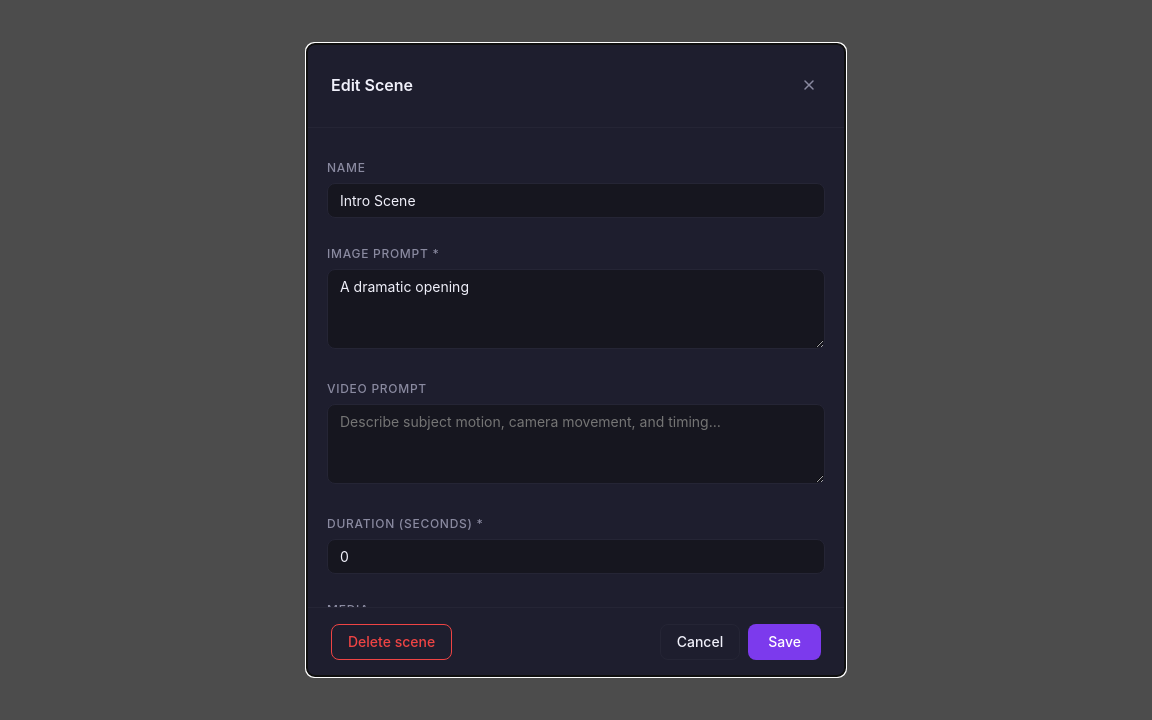
Test: SceneModal › field validation › blocks save when duration is out of range and shows error
Click the button with test id "save-button": x=785, y=642 [748, 624, 821, 660]
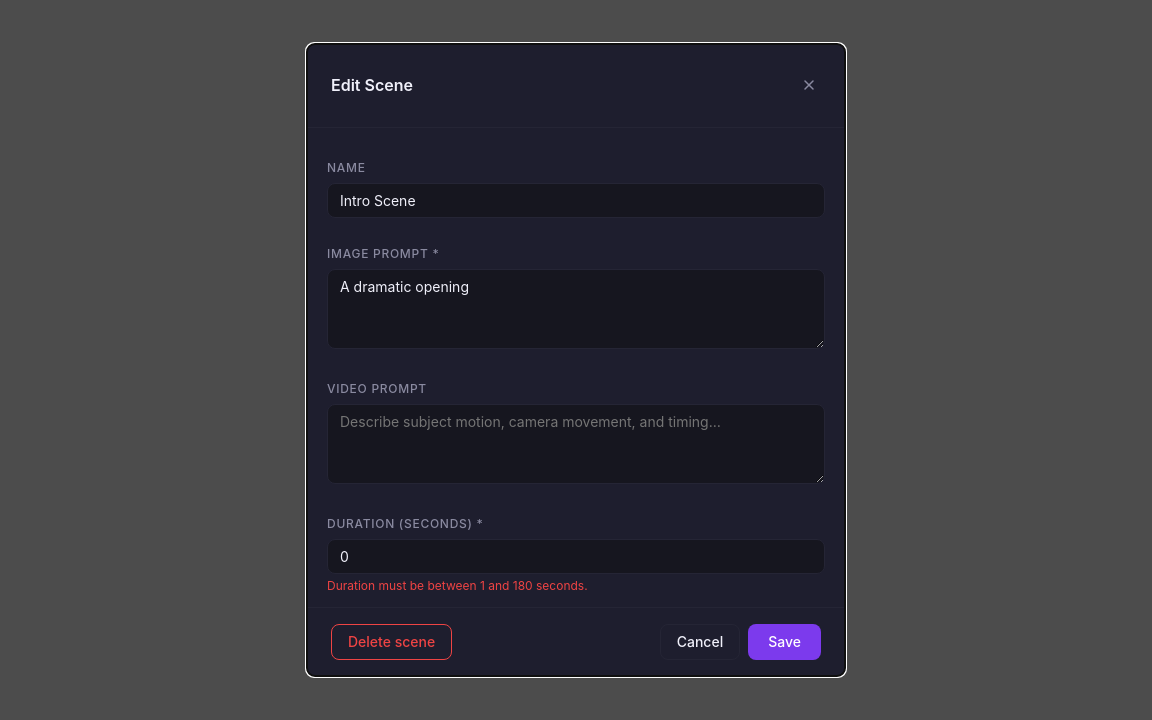
Check: the message "Duration must be between 1 and 180 seconds." is shown, box [327, 578, 588, 593]
